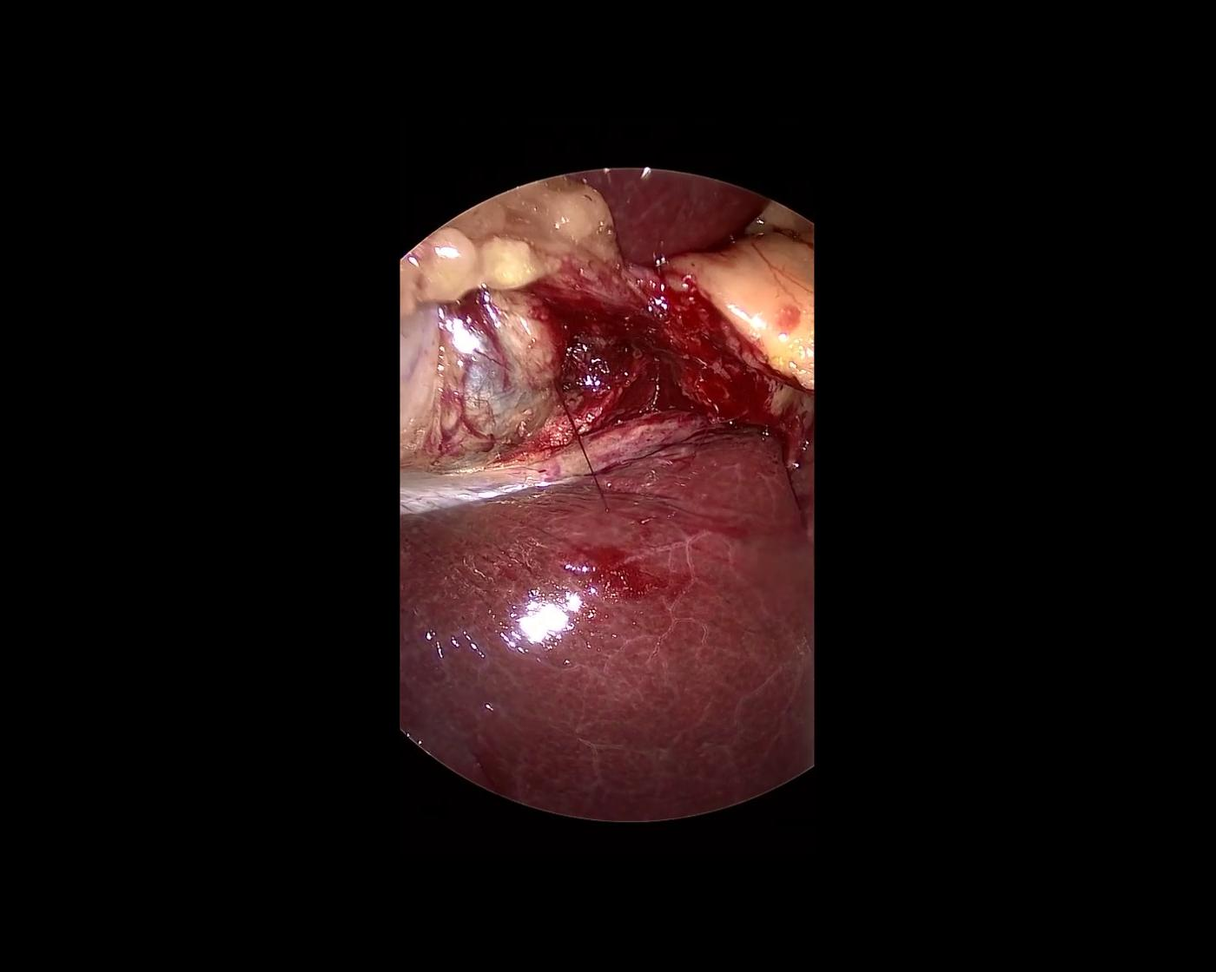Gallbladder: (394, 171, 607, 478)
Liver: (404, 425, 811, 819), (564, 161, 766, 279)
